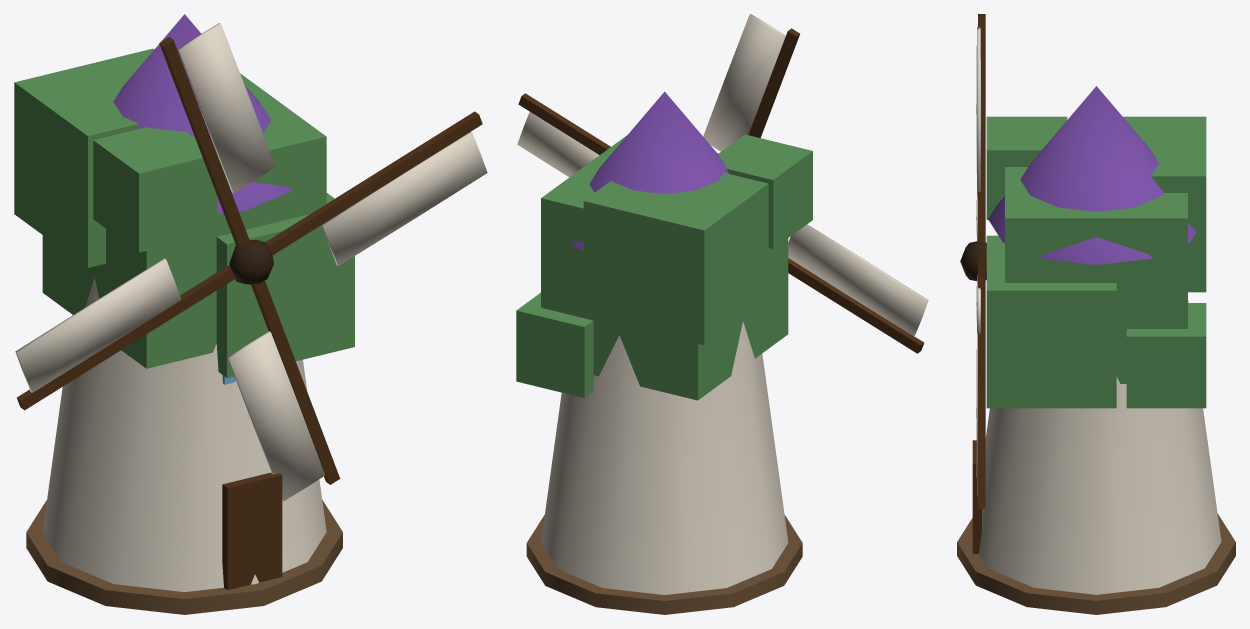
Rendered from props_island2.glb.
3 views of the same model, side by side, from view 1: azimuth 30°, elevation 25°; view 2: azimuth 150°, elevation 25°; view 3: azimuth 270°, elevation 25° (orthographic). The views are drawn at different scales.
Parts seen in each view (by area): view 1: windmill, tree_meadow_a, windmill_sails; view 2: windmill, tree_meadow_a, windmill_sails; view 3: windmill, tree_meadow_a, windmill_sails.
Part boxes in pixels (x1,y1,x2,y2): windmill: (26, 14, 342, 614); tree_meadow_a: (14, 48, 354, 377); windmill_sails: (15, 23, 487, 501); windmill: (526, 91, 802, 614); tree_meadow_a: (516, 134, 812, 400); windmill_sails: (517, 14, 928, 353); windmill: (957, 86, 1235, 614); tree_meadow_a: (986, 116, 1206, 408); windmill_sails: (960, 14, 986, 508).
Size of the model in its own units: 3.09 by 3.7 by 1.8.
